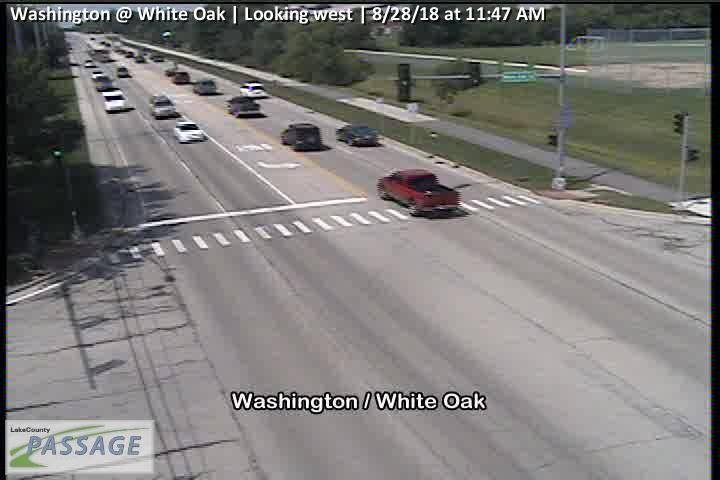SUV: (279, 123, 322, 153), (147, 92, 178, 120), (240, 81, 270, 100), (192, 78, 217, 96), (172, 70, 191, 85), (95, 76, 113, 91), (133, 53, 147, 64)
Sedan: (335, 124, 379, 148), (173, 120, 207, 145), (101, 90, 129, 112), (149, 52, 166, 61), (117, 65, 127, 79), (164, 66, 176, 77), (124, 48, 134, 58), (84, 59, 96, 67), (91, 71, 101, 77)
Truck: (377, 167, 461, 218), (226, 96, 263, 117)
